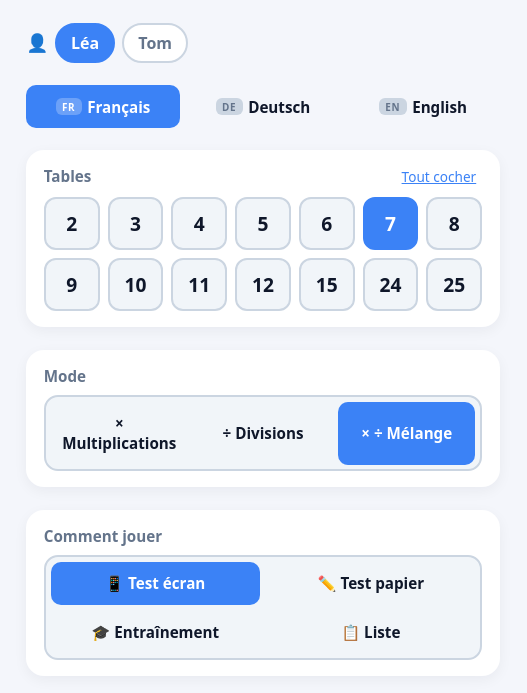
Test case: switching profile › picking someone else swaps in their settings
Click the radio button labelled "Tom" at (155, 43), box [122, 23, 188, 63]
(page scrolled)
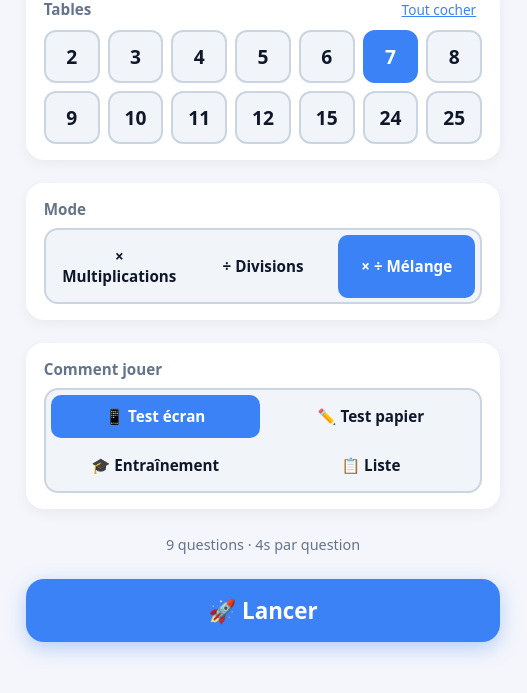
Now the text "9 questions · 4s par question" is shown, box [166, 535, 360, 554]
